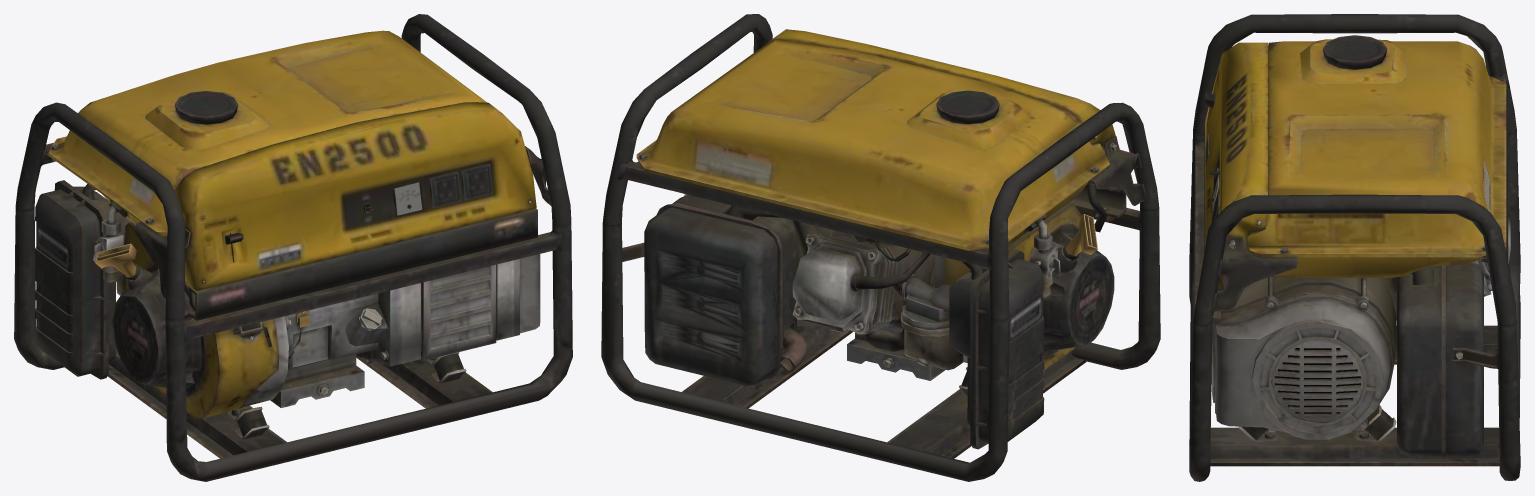
File: portable_generator.glb
The picture shows the model from 3 angles, left to right: view 1: azimuth 30°, elevation 25°; view 2: azimuth 150°, elevation 25°; view 3: azimuth 270°, elevation 25°; orthographic projection.
Visible parts, largest first — view 1: portable_generator; view 2: portable_generator; view 3: portable_generator.
Boxes of the visible parts, x1=… form: portable_generator: x1=14, y1=14, x2=572, y2=481; portable_generator: x1=601, y1=14, x2=1160, y2=481; portable_generator: x1=1189, y1=14, x2=1520, y2=481.
Size of the model in its own units: 0.8169 by 0.5752 by 0.564.
2 materials, 2 textured.
